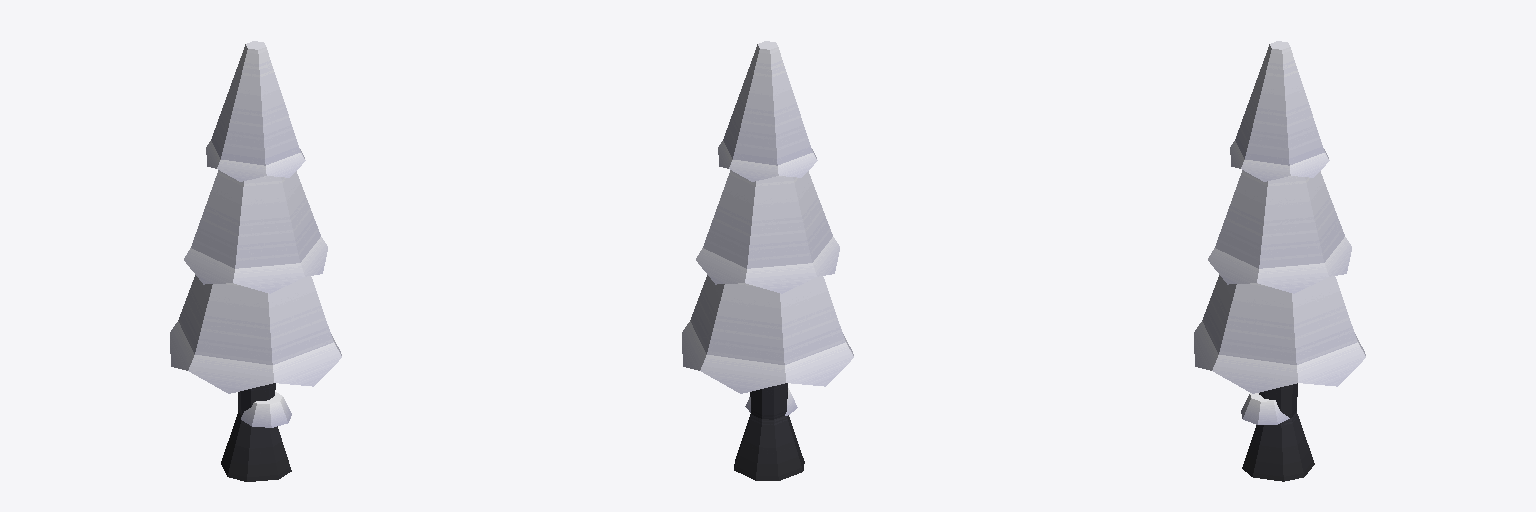
3 views of the same model, side by side, from view 1: azimuth 30°, elevation 25°; view 2: azimuth 150°, elevation 25°; view 3: azimuth 270°, elevation 25° (orthographic).
Visible parts, largest first — view 1: tree.061; view 2: tree.061; view 3: tree.061.
Part boxes in pixels (x1,y1,x2,y2): tree.061: (170,41,341,481); tree.061: (682,41,853,480); tree.061: (1194,41,1365,481).
Size of the model in its own units: 1.33 by 3.47 by 1.29.
1 materials, 1 textured.